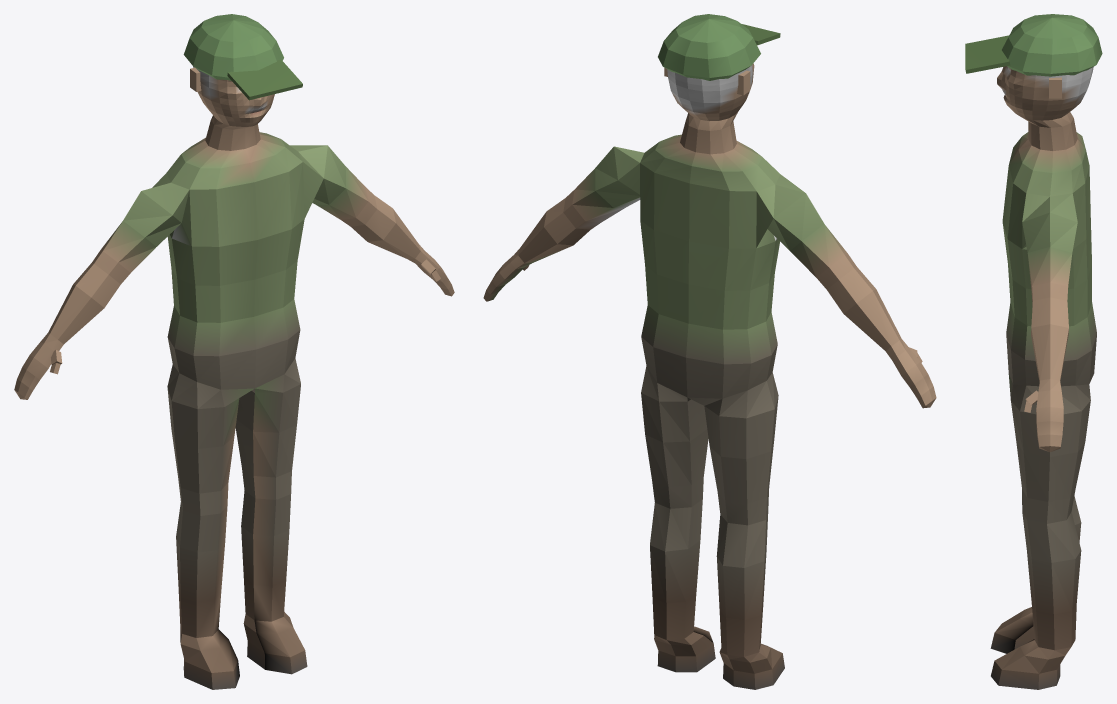
File: char__pessoa__tiao.glb
3 views of the same model, side by side, from view 1: azimuth 30°, elevation 25°; view 2: azimuth 150°, elevation 25°; view 3: azimuth 270°, elevation 25° (orthographic). The views are drawn at different scales.
Parts seen in each view (by area): view 1: char__pessoa__tiao; view 2: char__pessoa__tiao; view 3: char__pessoa__tiao.
Part boxes in pixels (box(x1,y1,x2,y2)): char__pessoa__tiao: box(14, 14, 454, 689); char__pessoa__tiao: box(483, 14, 936, 689); char__pessoa__tiao: box(965, 14, 1102, 689).
Size of the model in its own units: 1.21 by 1.71 by 0.3285.
